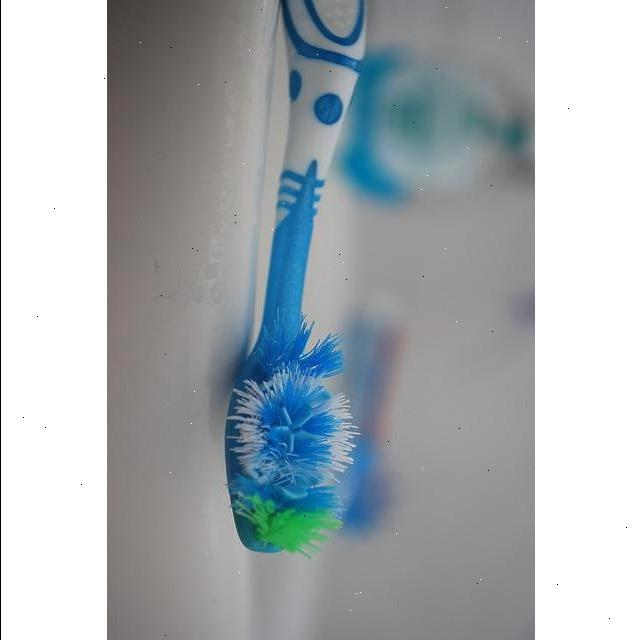toothbrush: (222, 1, 366, 562)
